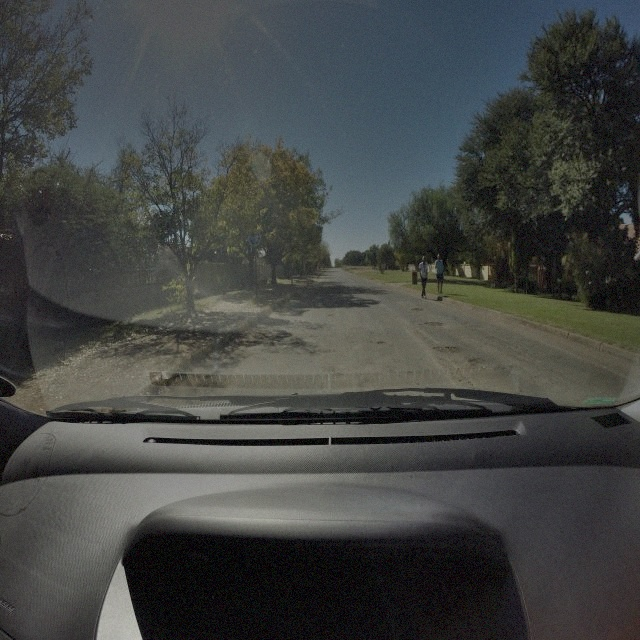pothole: (432, 344, 465, 355), (468, 356, 484, 367), (424, 320, 444, 328), (412, 306, 424, 314), (377, 339, 387, 348)
